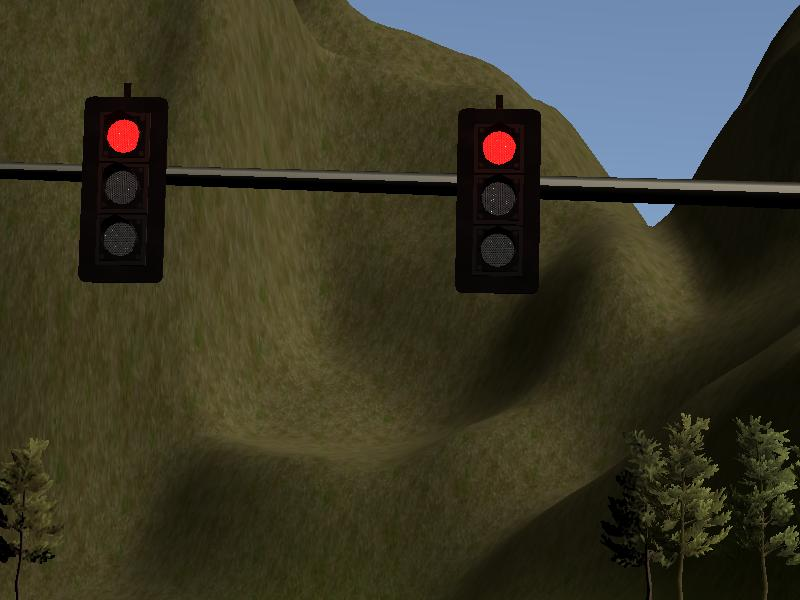red: (78, 96, 166, 284), (455, 107, 543, 295)
